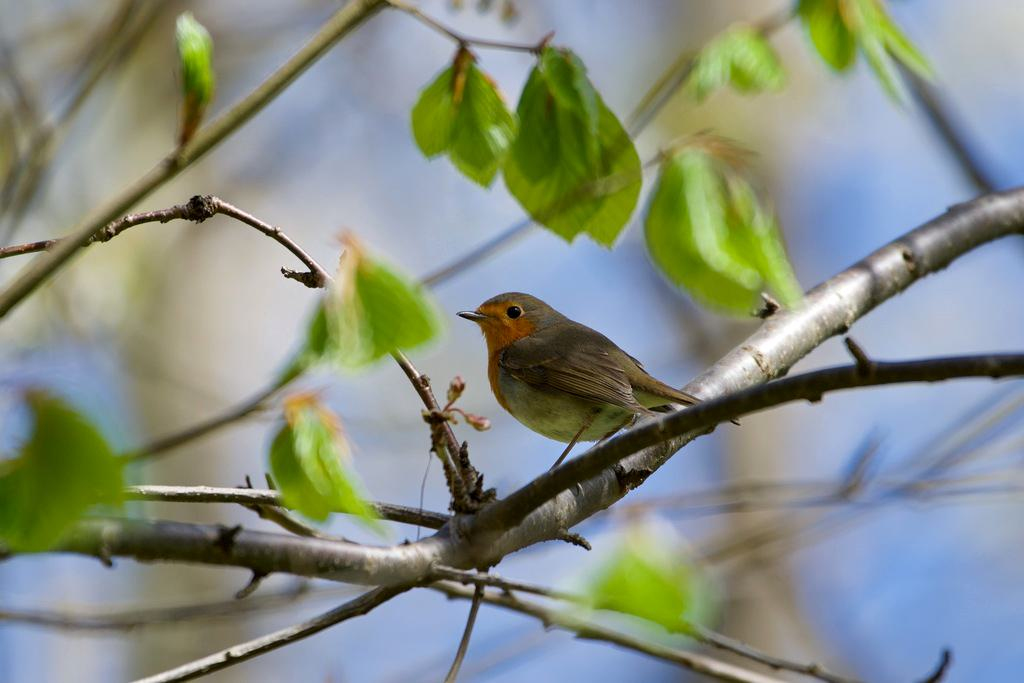ErithacusRubecula: (455, 292, 741, 471)
